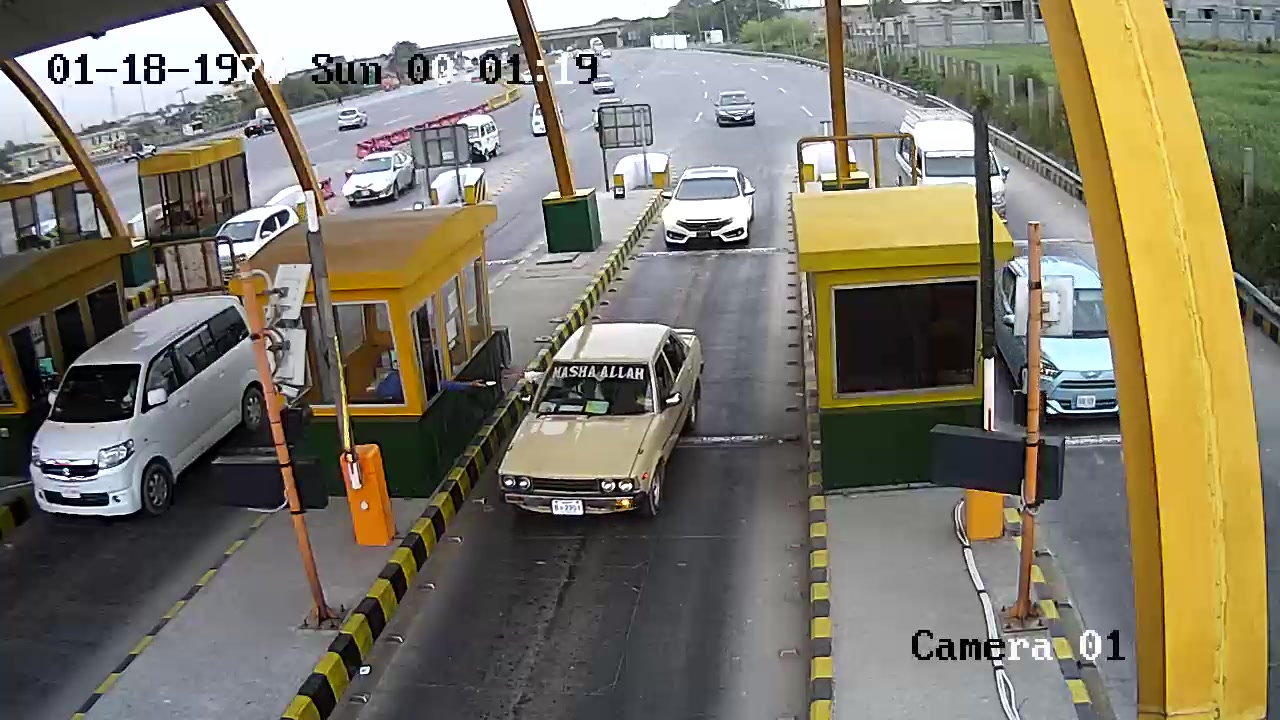F1: (463, 318, 711, 558)
